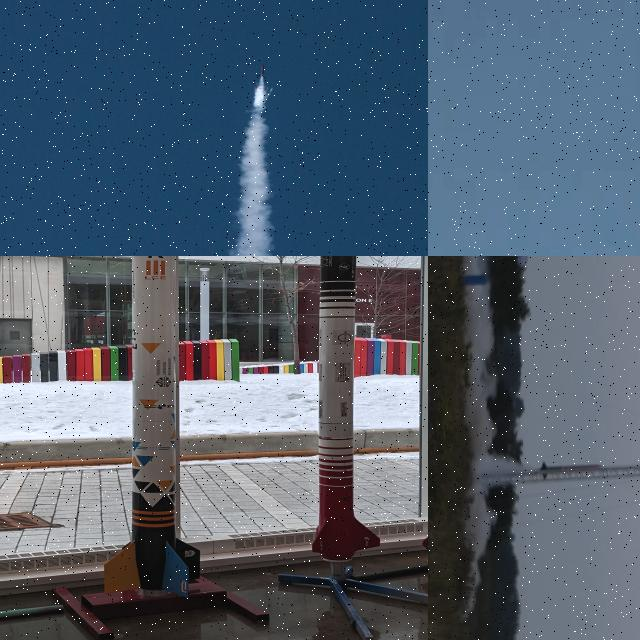Rocket: (103, 256, 201, 598), (312, 256, 380, 563), (540, 461, 605, 478), (256, 64, 268, 80)
